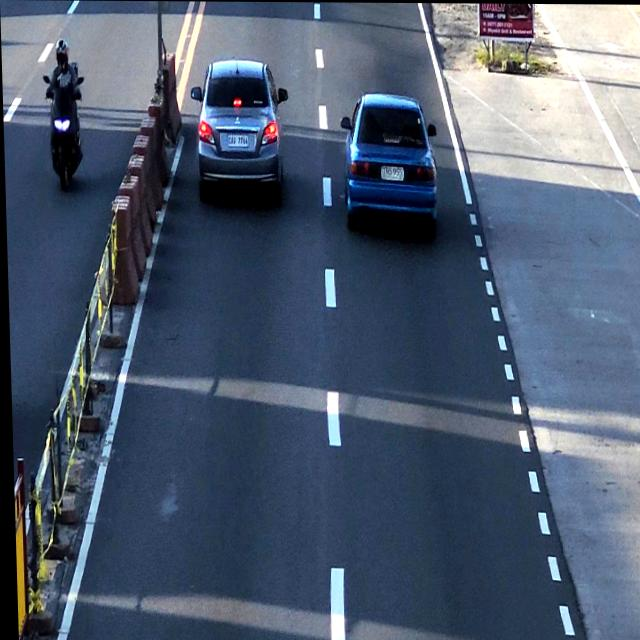Car: (193, 55, 284, 203), (341, 93, 439, 224)
License-Plate: (379, 160, 405, 189), (225, 132, 248, 150)
